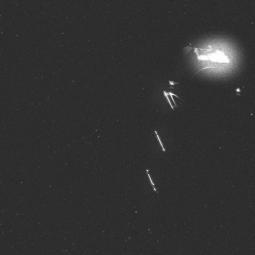earth_observation_sat_1: (160, 35, 242, 110)
